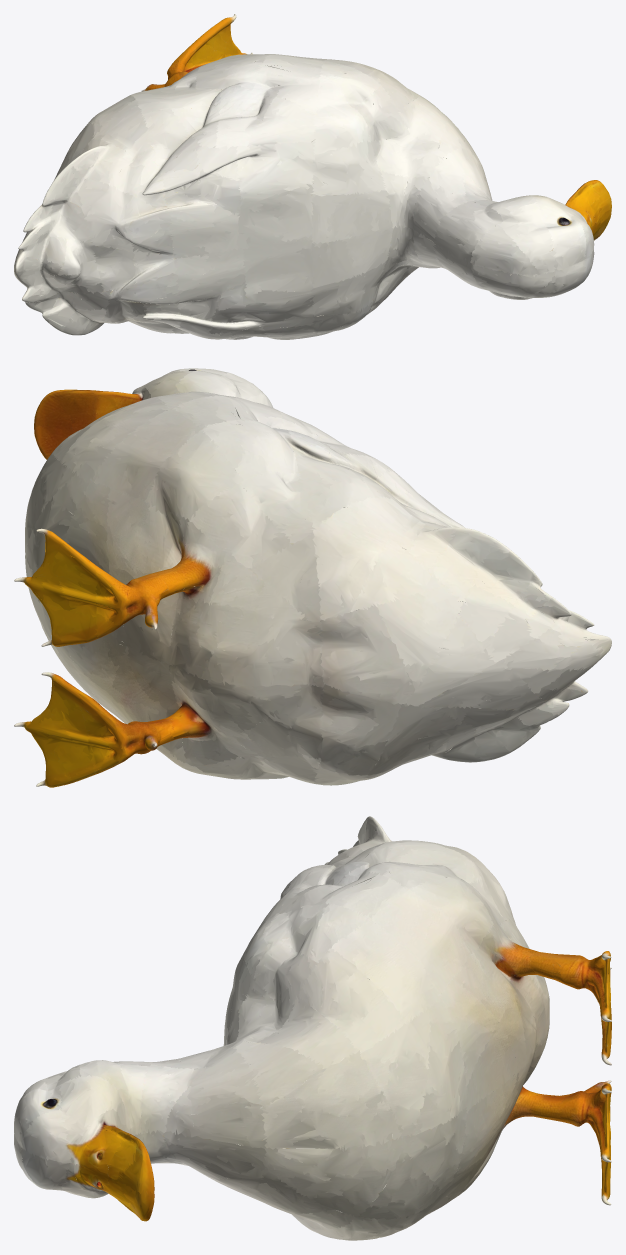
File: gosling.glb
3 renders of one model, top to bottom at view 1: azimuth 30°, elevation 25°; view 2: azimuth 150°, elevation 25°; view 3: azimuth 270°, elevation 25°, orthographic. The views are drawn at different scales.
Parts seen in each view (by area): view 1: mesh_0; view 2: mesh_0; view 3: mesh_0.
Boxes of the visible parts, x1,y1,x2,y2 form: mesh_0: (14, 14, 611, 339); mesh_0: (14, 368, 611, 787); mesh_0: (14, 816, 611, 1240).
Size of the model in its own units: 0.3799 by 0.187 by 0.3039.
Materials: 1 (1 with a texture image).
